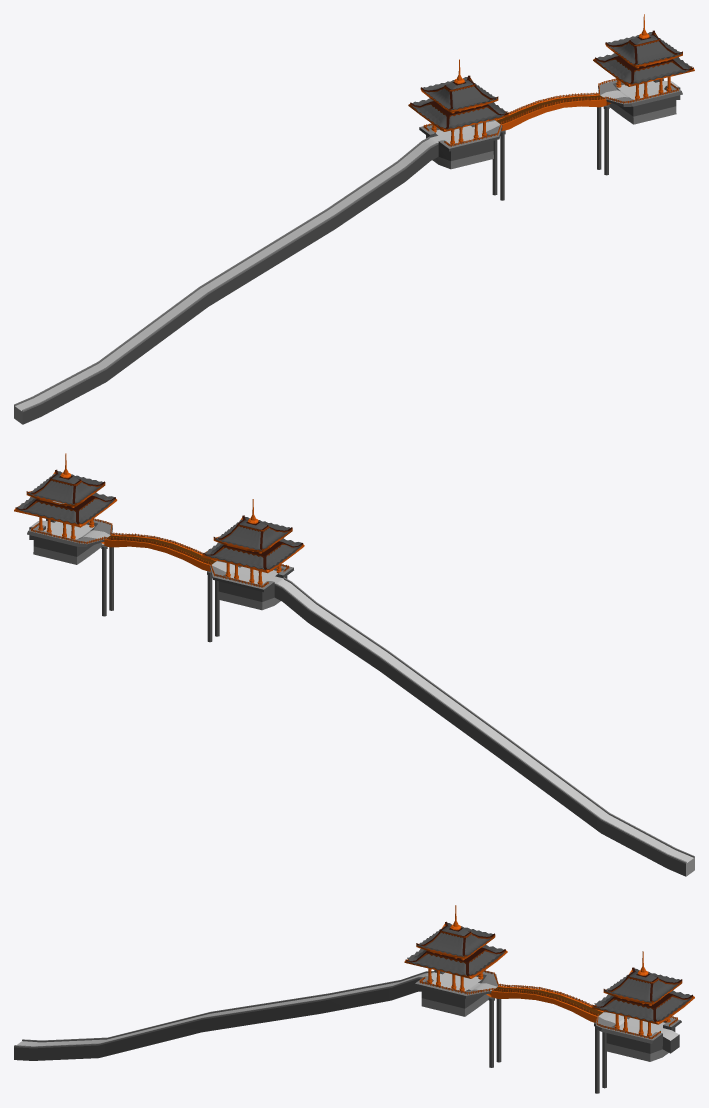
The model's file is gates.fbx.
3 views of the same model, one above another, from view 1: azimuth 30°, elevation 25°; view 2: azimuth 150°, elevation 25°; view 3: azimuth 330°, elevation 25° (orthographic).
Visible parts, largest first — view 1: base, telhado2, telhado1, pilares, detalhe5, telhado5, telhado3, telhado4, telhado6; view 2: base, telhado2, telhado1, pilares, detalhe5, telhado5, telhado3, telhado6, telhado4; view 3: base, telhado2, telhado1, pilares, detalhe5, telhado3, telhado5, telhado6, telhado4, colunas4.
Boxes of the visible parts, <box> form: base: <box>14,78,682,424</box>; telhado2: <box>411,77,507,129</box>; telhado1: <box>596,32,692,84</box>; pilares: <box>492,104,609,200</box>; detalhe5: <box>424,78,678,146</box>; telhado5: <box>408,101,510,131</box>; telhado3: <box>593,56,694,86</box>; telhado4: <box>605,30,682,67</box>; telhado6: <box>420,75,498,112</box>; base: <box>27,519,694,876</box>; telhado2: <box>204,517,301,569</box>; telhado1: <box>17,471,114,524</box>; pilares: <box>101,544,219,642</box>; detalhe5: <box>31,518,288,587</box>; telhado5: <box>201,541,304,573</box>; telhado3: <box>14,495,117,527</box>; telhado6: <box>213,515,292,552</box>; telhado4: <box>26,469,105,506</box>; base: <box>14,970,681,1061</box>; telhado2: <box>406,923,504,975</box>; telhado1: <box>593,968,691,1021</box>; pilares: <box>488,996,606,1093</box>; detalhe5: <box>420,970,677,1038</box>; telhado3: <box>591,993,694,1024</box>; telhado5: <box>404,947,507,978</box>; telhado6: <box>416,921,495,958</box>; telhado4: <box>603,967,682,1004</box>; colunas4: <box>419,970,677,1039</box>.
Bounding box in the file's own units: 224 × 85.01 × 21.54.
